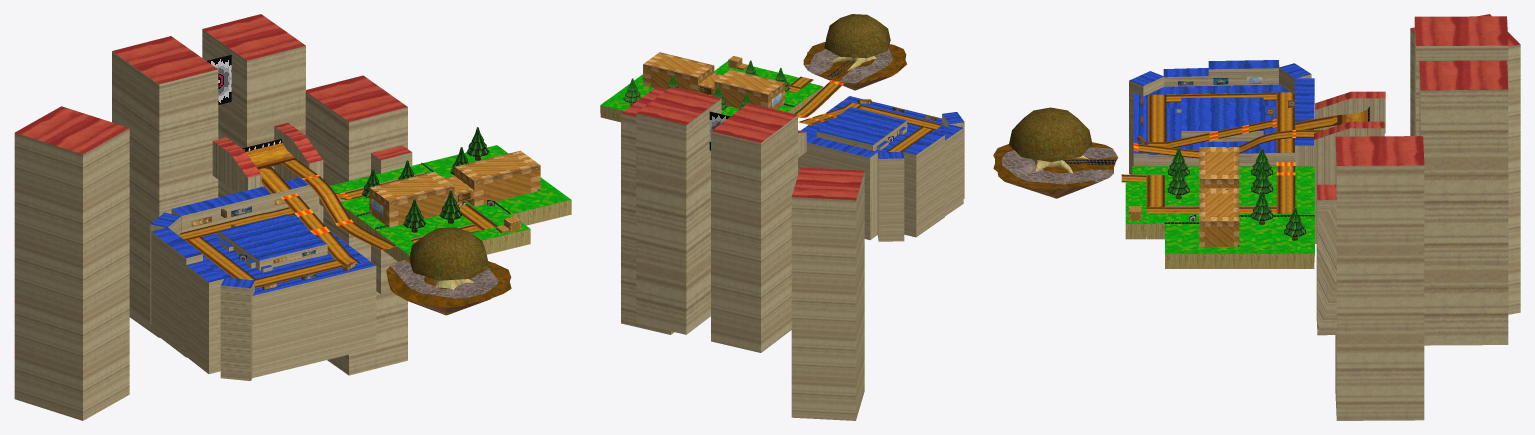
3 renders of one model, left to right at view 1: azimuth 30°, elevation 25°; view 2: azimuth 150°, elevation 25°; view 3: azimuth 270°, elevation 25°, orthographic. The views are drawn at different scales.
Visible parts, largest first — view 1: WoodRedBorder, WoodBlueBorder, WoodRed, WoodBlue, Road.012, BigWood, StartingPlanGrass, TreeLeaves, StartingPlanWalls, PlanetGrass, Trees, PlanetRock (+1 smaller); view 2: WoodRedBorder, WoodBlueBorder, WoodRed, WoodBlue, BigWood, TreeLeaves, Road.012, StartingPlanGrass, PlanetGrass, PlanetRock, Trees, StartingPlanWalls; view 3: WoodRedBorder, WoodRed, WoodBlue, StartingPlanGrass, Road.012, WoodBlueBorder, BigWood, TreeLeaves, StartingPlanWalls, Trees, PlanetRock, PlanetGrass.
Boxes of the visible parts, x1=… form: WoodRedBorder: x1=14, y1=29, x2=412, y2=420; WoodBlueBorder: x1=150, y1=185, x2=376, y2=380; WoodRed: x1=15, y1=14, x2=411, y2=177; WoodBlue: x1=150, y1=177, x2=375, y2=295; Road.012: x1=178, y1=143, x2=496, y2=288; BigWood: x1=369, y1=150, x2=540, y2=227; StartingPlanGrass: x1=330, y1=145, x2=570, y2=254; TreeLeaves: x1=409, y1=227, x2=489, y2=280; StartingPlanWalls: x1=319, y1=152, x2=571, y2=261; PlanetGrass: x1=386, y1=259, x2=511, y2=307; Trees: x1=362, y1=127, x2=488, y2=232; PlanetRock: x1=390, y1=260, x2=498, y2=298; WoodRedBorder: x1=621, y1=98, x2=864, y2=420; WoodBlueBorder: x1=798, y1=100, x2=964, y2=241; WoodRed: x1=621, y1=86, x2=864, y2=200; WoodBlue: x1=800, y1=96, x2=964, y2=158; BigWood: x1=643, y1=52, x2=784, y2=109; TreeLeaves: x1=824, y1=14, x2=890, y2=58; Road.012: x1=707, y1=76, x2=942, y2=151; StartingPlanGrass: x1=600, y1=61, x2=822, y2=116; PlanetGrass: x1=803, y1=42, x2=906, y2=83; PlanetRock: x1=804, y1=48, x2=892, y2=83; Trees: x1=623, y1=60, x2=790, y2=109; StartingPlanWalls: x1=600, y1=78, x2=823, y2=122; WoodRedBorder: x1=1314, y1=14, x2=1520, y2=420; WoodRed: x1=1314, y1=14, x2=1520, y2=200; WoodBlue: x1=1129, y1=60, x2=1314, y2=154; StartingPlanGrass: x1=1125, y1=166, x2=1314, y2=253; Road.012: x1=1121, y1=92, x2=1367, y2=213; WoodBlueBorder: x1=1129, y1=68, x2=1313, y2=174; BigWood: x1=1199, y1=147, x2=1239, y2=246; TreeLeaves: x1=1009, y1=107, x2=1092, y2=161; StartingPlanWalls: x1=1125, y1=174, x2=1314, y2=268; Trees: x1=1167, y1=147, x2=1305, y2=240; PlanetRock: x1=1002, y1=147, x2=1117, y2=184; PlanetGrass: x1=993, y1=142, x2=1117, y2=190.
Size of the model in its own units: 77656 by 59256 by 89123.
25 materials, 25 textured.
